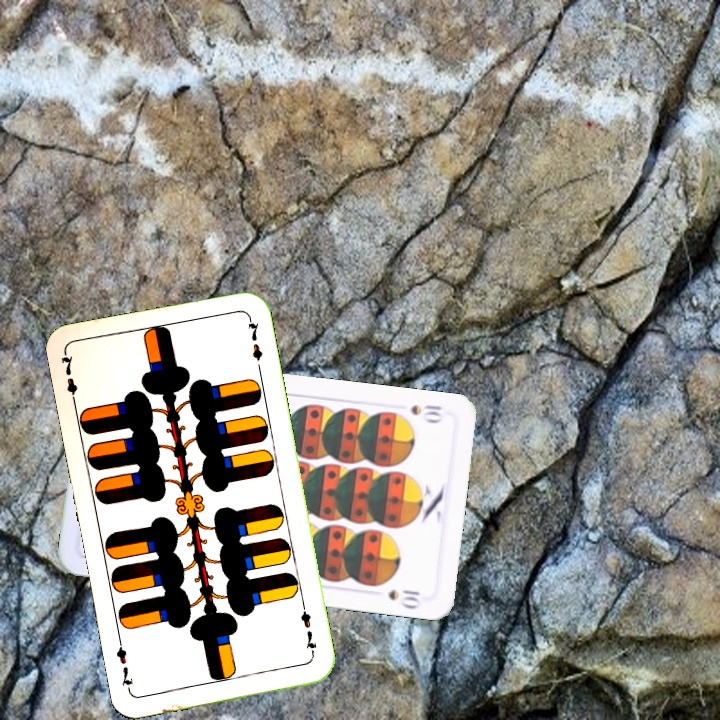E7: (296, 600, 320, 659), (57, 350, 81, 408)
S10: (407, 400, 445, 425)
